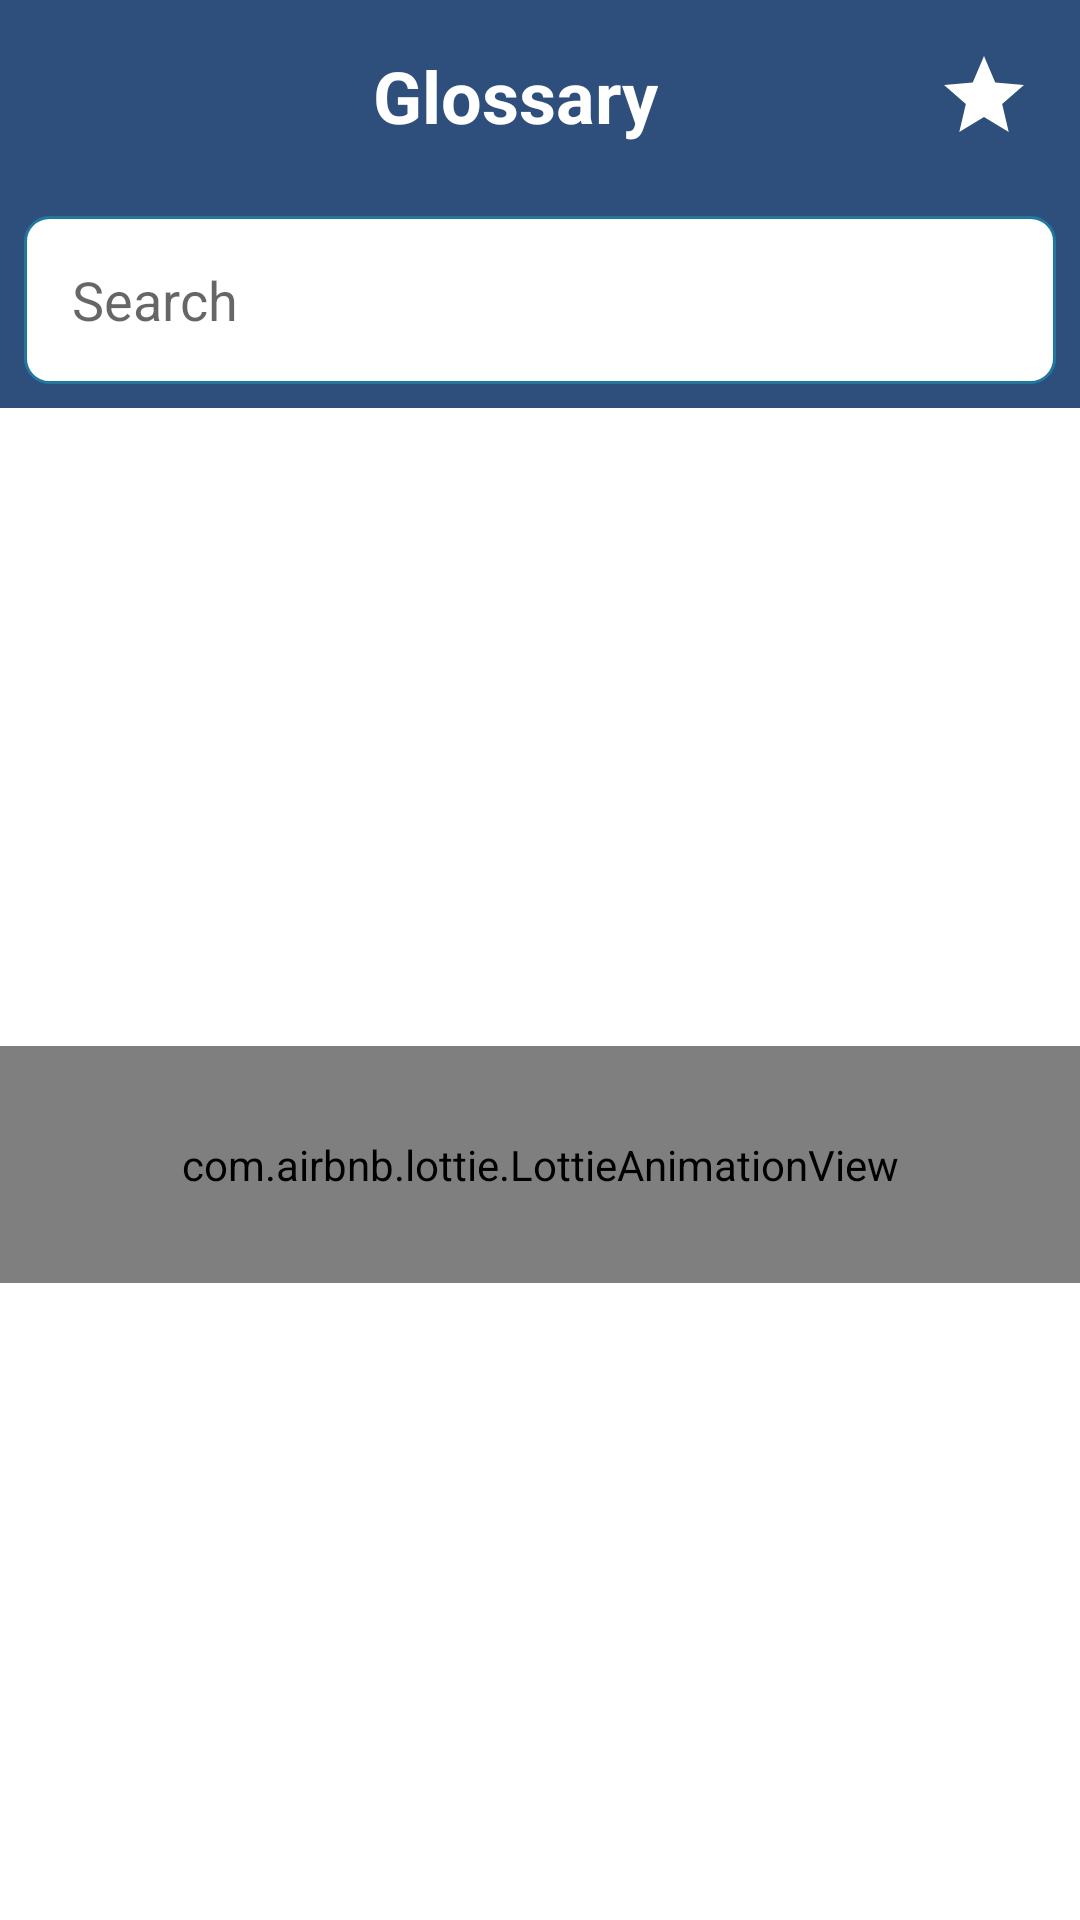

Where icons sit on this 1080 x 1920 app screen, as (x1, y1, x2, y2):
favourite: (944, 56, 1024, 132)
